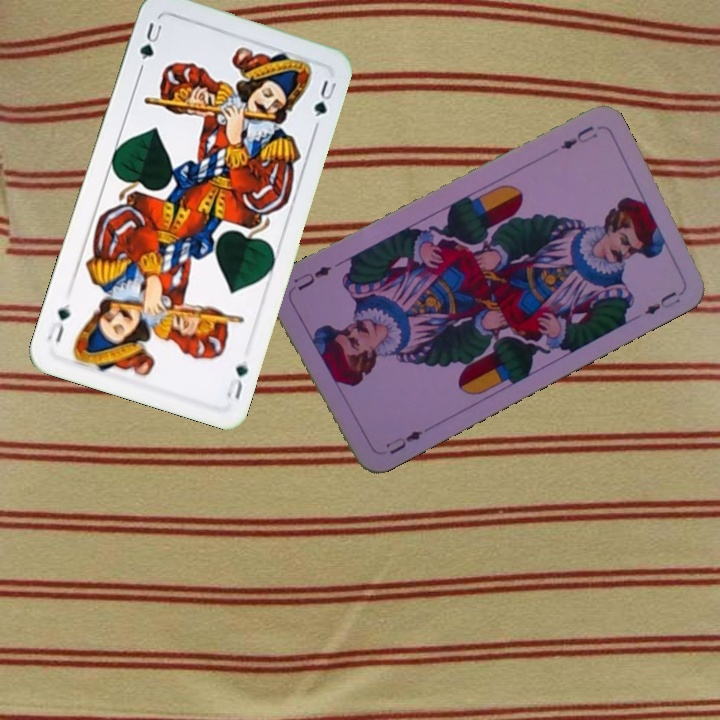EU: (381, 426, 426, 457), (556, 121, 600, 152)
GU: (135, 18, 165, 63), (222, 356, 251, 402)
